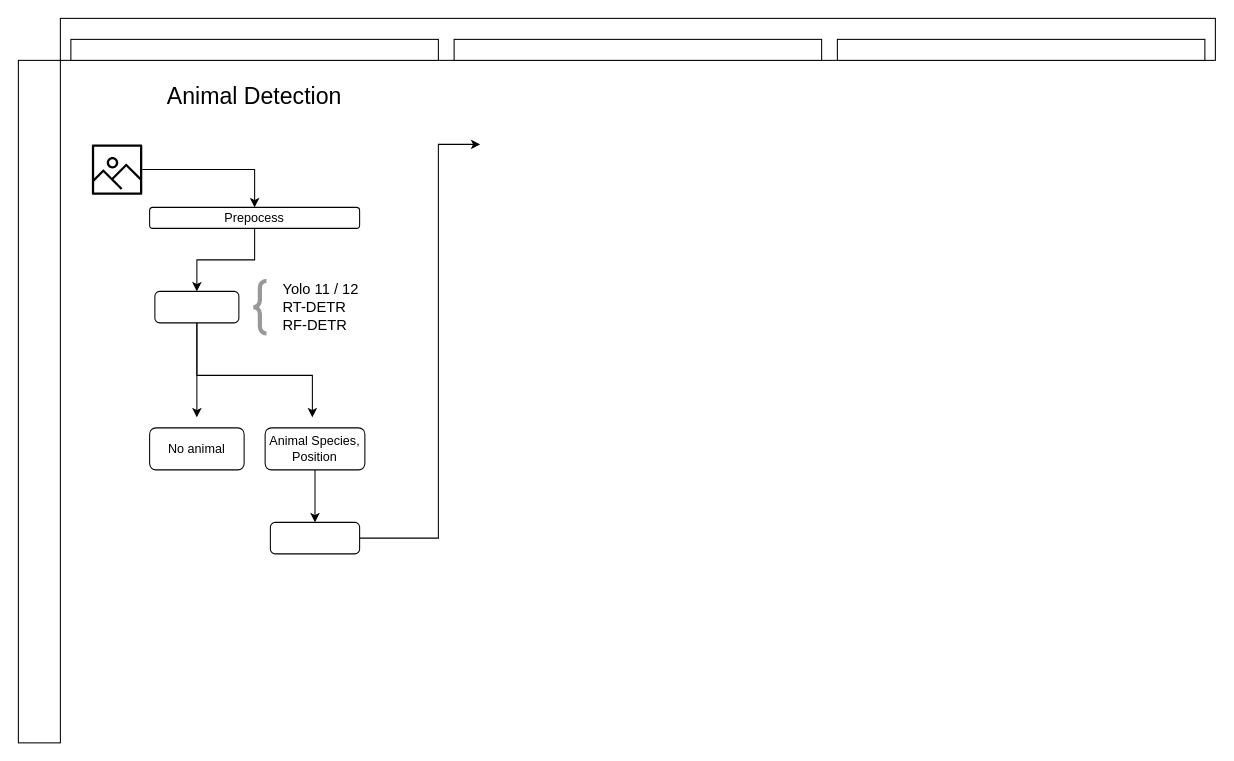
This 1234x761 diagram has some shape labels left out. Here are the shapes that lost their labels. From the top down, the box of each, then its label:
(154, 290, 239, 323): Inference
(269, 521, 360, 554): Crop Original Image
